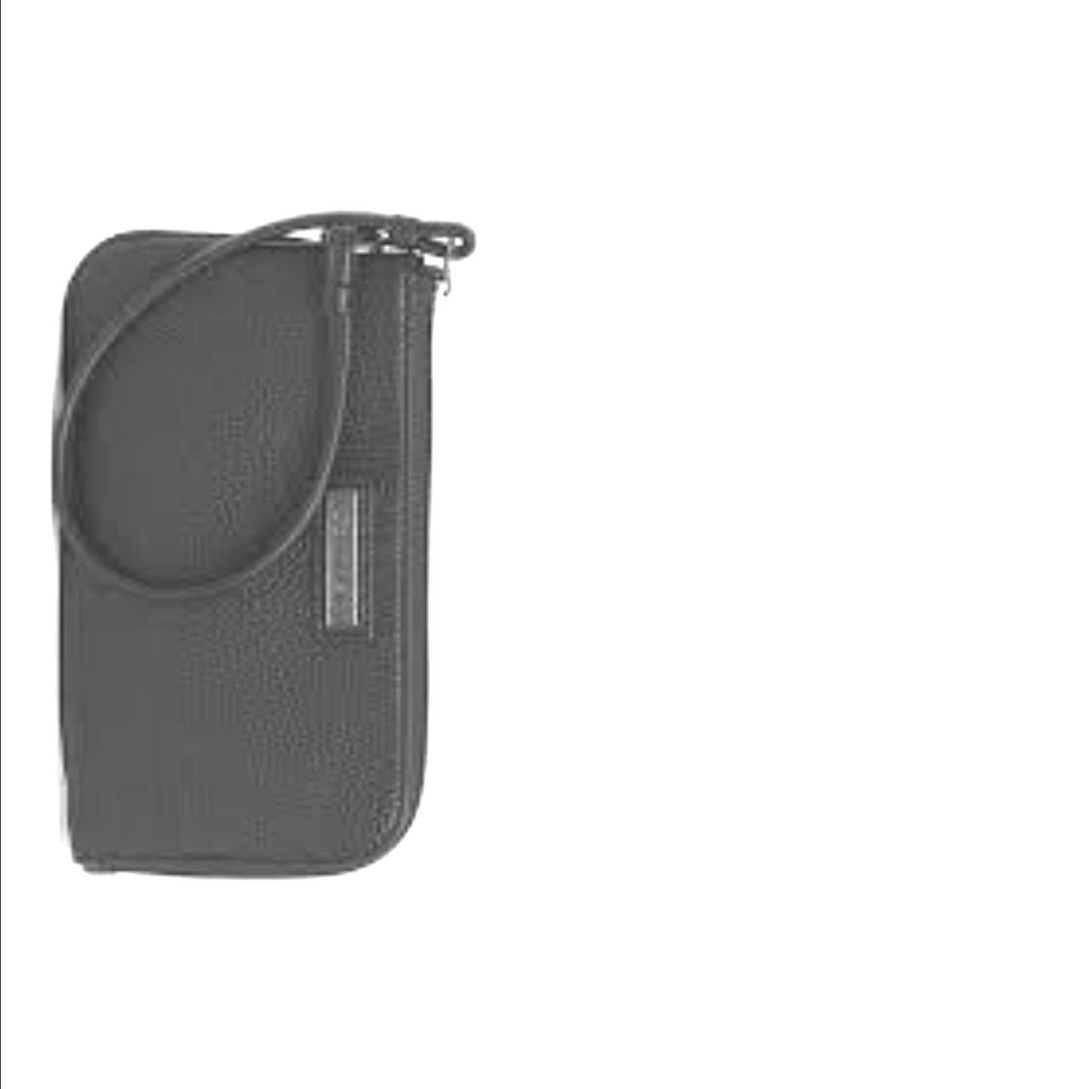wallet: (67, 245, 439, 856)
